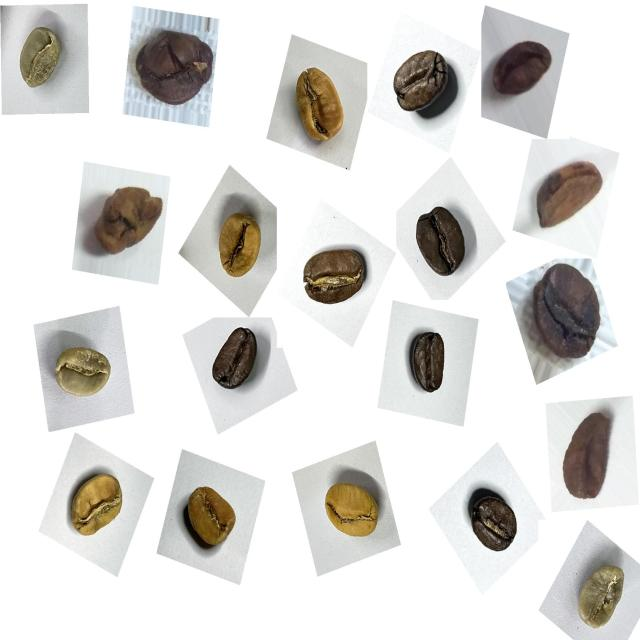bad: (521, 258, 611, 372), (130, 19, 222, 123), (88, 175, 171, 269), (549, 404, 619, 514), (528, 150, 610, 240), (486, 28, 558, 112)
dark: (382, 36, 462, 128), (404, 193, 476, 286), (463, 478, 530, 564), (398, 318, 462, 403), (202, 318, 266, 401)
green: (44, 336, 120, 414), (6, 17, 73, 104), (568, 555, 636, 640)
light: (288, 56, 360, 154), (312, 466, 388, 556), (59, 463, 133, 553), (177, 474, 248, 560), (206, 198, 270, 288)
medium: (296, 240, 376, 321)
